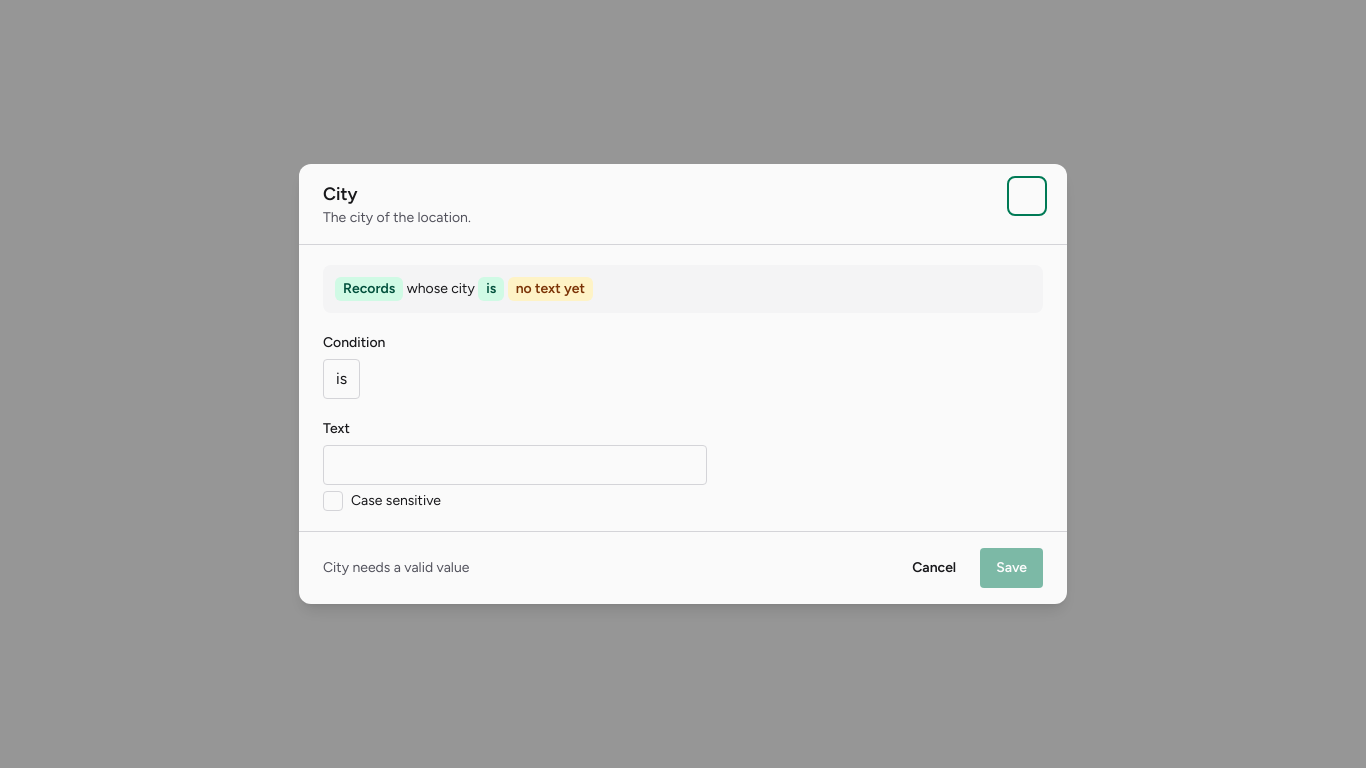
Test: only offers the operations the filter supports
Click the button with aria-label "Operation": point(342, 379) 323,359 -> 360,399
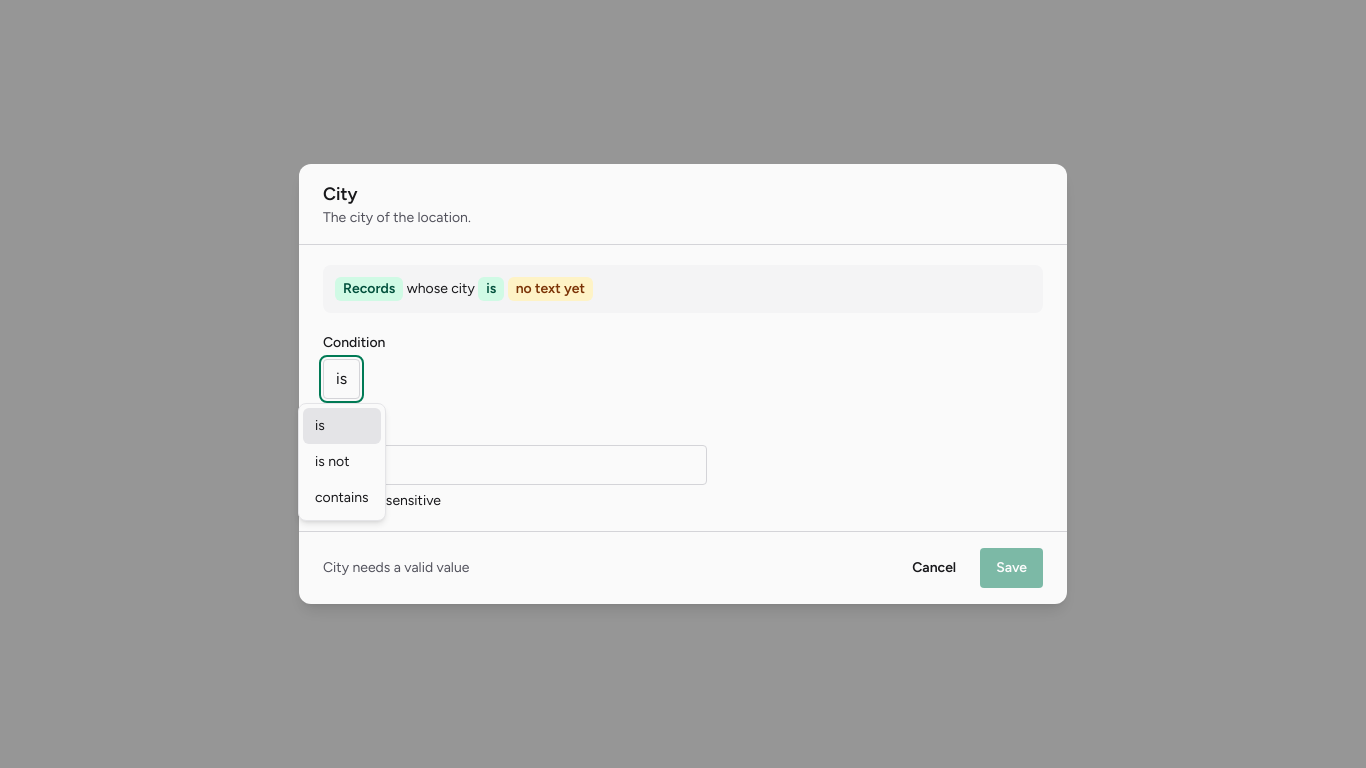
Check: the option "contains" is shown, box 315,489 -> 368,506
